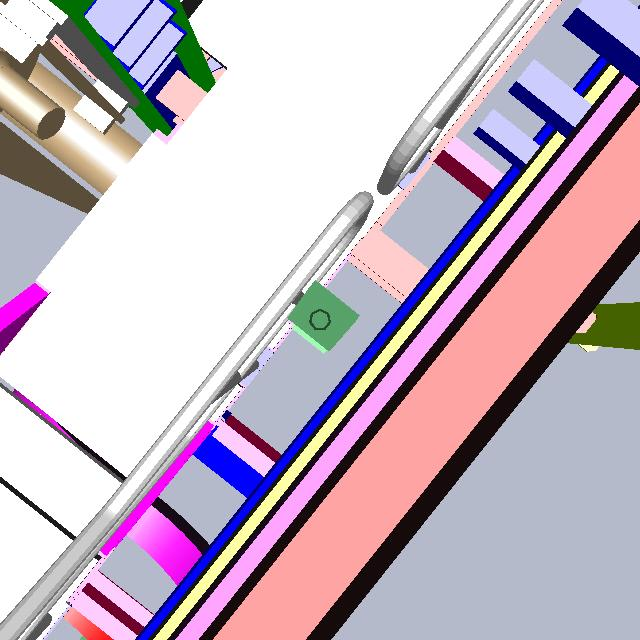Soporte: (282, 279, 360, 357), (561, 289, 640, 360)
